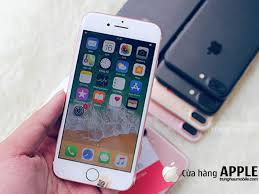iphone: (48, 7, 159, 192)
iphone8: (50, 9, 161, 194)
